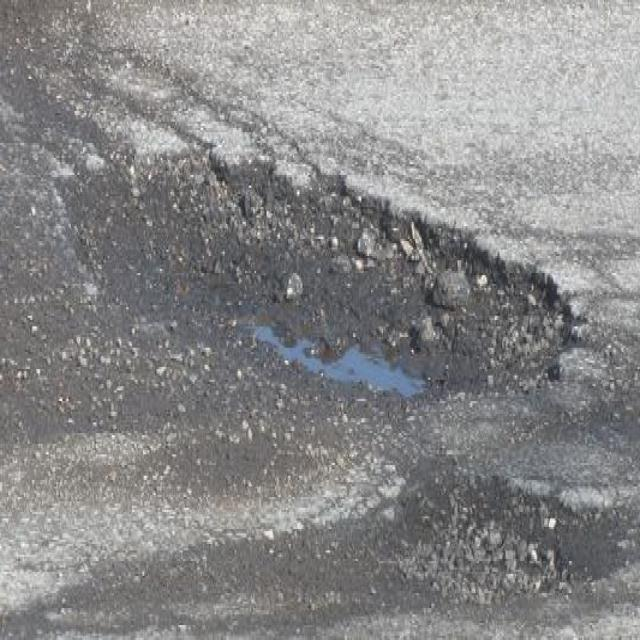pothole: (58, 143, 578, 401), (388, 467, 592, 612)
